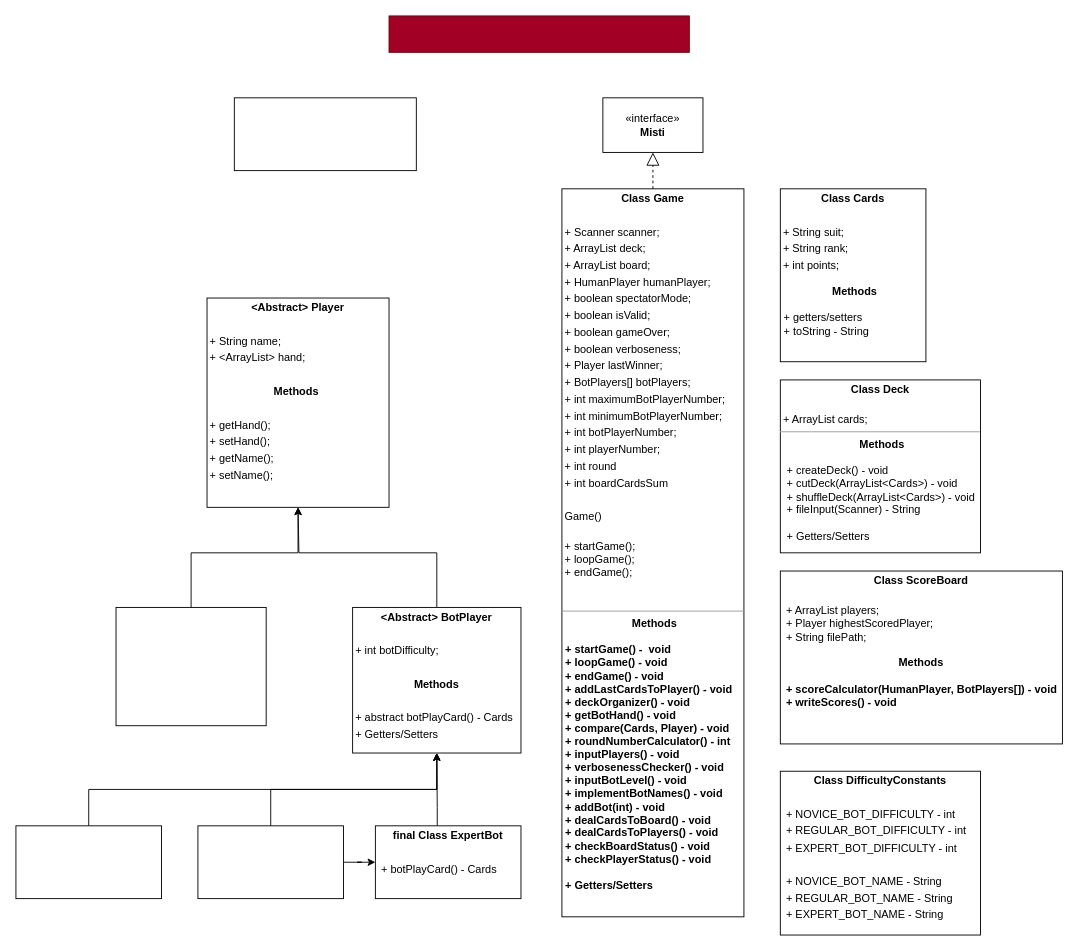
Some shapes in this 1078 by 951 pixel diagram are drawn without their labels. The box of each missing label's shape, as (x1, y1, x2, y2) in pixels:
Class Main + new Game();: (233, 97, 416, 171)
final Class HumanPlayer Methods + humanNameInput()- String + playCard() - void: (115, 607, 266, 726)
final Class NoviceBot + botPlayCard() - Cards: (15, 825, 162, 899)
fnal Class RegularBot + botPlayCard() - Cards: (197, 825, 344, 899)
SE 116 PROJECT MISTI GAME: (388, 15, 689, 52)
